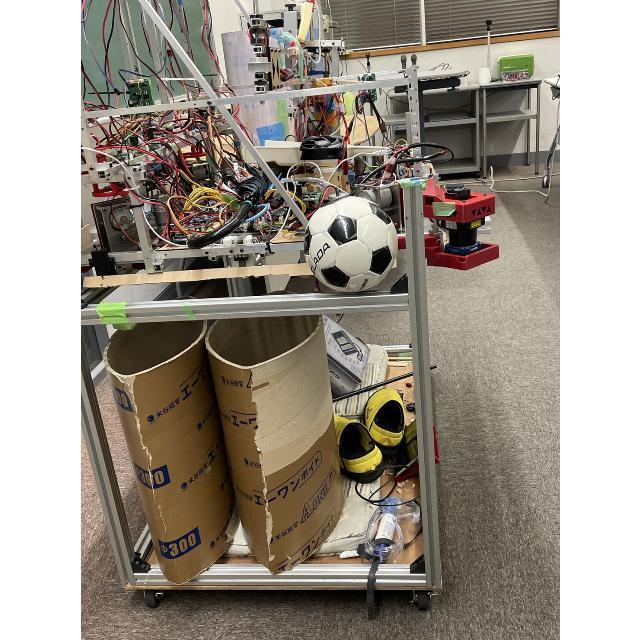ball: (303, 194, 399, 296)
